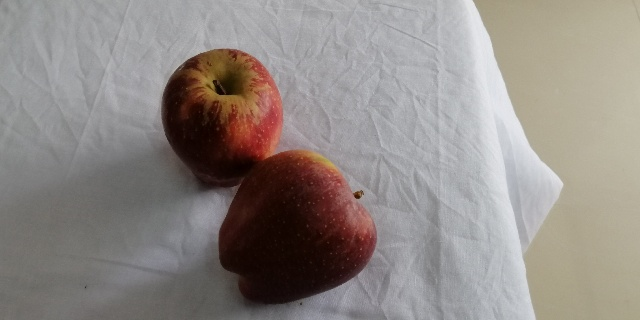apple_kashmir: (217, 148, 377, 305), (161, 46, 281, 190)
